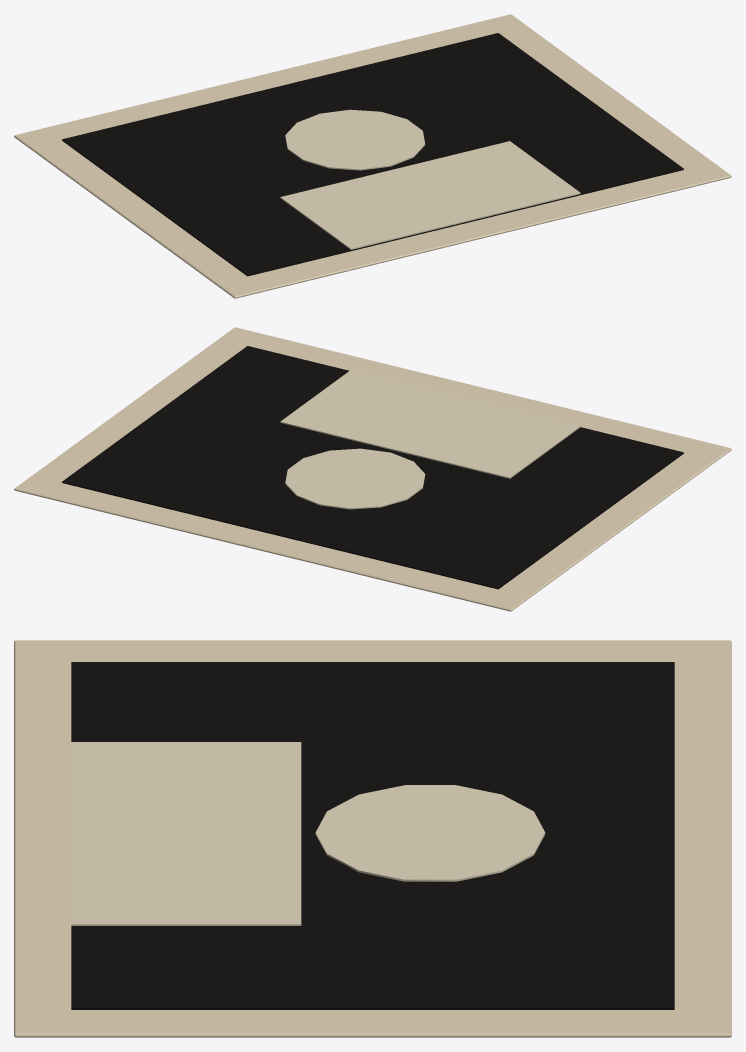
File: staff_print.glb
3 renders of one model, top to bottom at view 1: azimuth 30°, elevation 25°; view 2: azimuth 150°, elevation 25°; view 3: azimuth 270°, elevation 25°, orthographic. The views are drawn at different scales.
Visible parts, largest first — view 1: staff_print; view 2: staff_print; view 3: staff_print.
Boxes of the visible parts, <box> form: staff_print: <box>14,14,731,298</box>; staff_print: <box>14,327,731,611</box>; staff_print: <box>14,640,731,1037</box>.
Size of the model in its own units: 0.13 by 0.0013 by 0.1.
